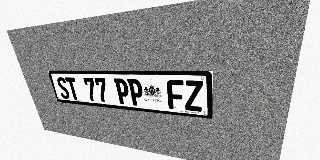7: (93, 78, 110, 103), (82, 78, 99, 102)
F: (166, 80, 185, 110)
P: (127, 79, 145, 106), (114, 78, 131, 105)
S: (55, 77, 71, 99)
T: (65, 77, 80, 100)
Z: (184, 80, 203, 112)
